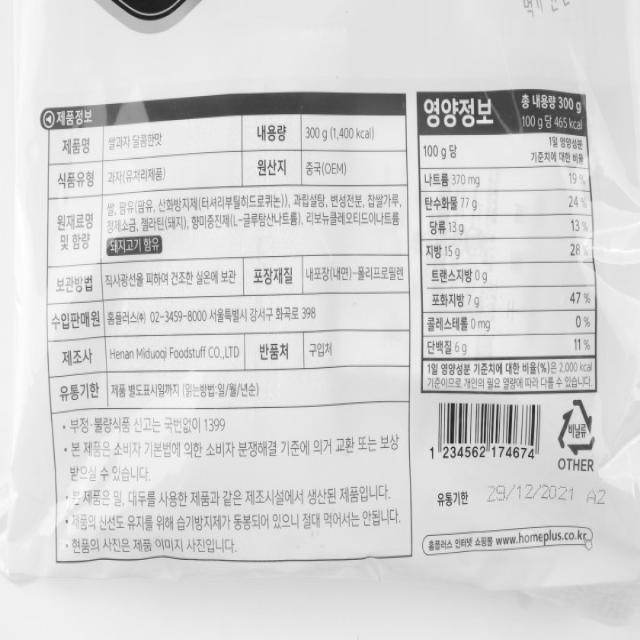Nutrition Label: (415, 76, 606, 400)
